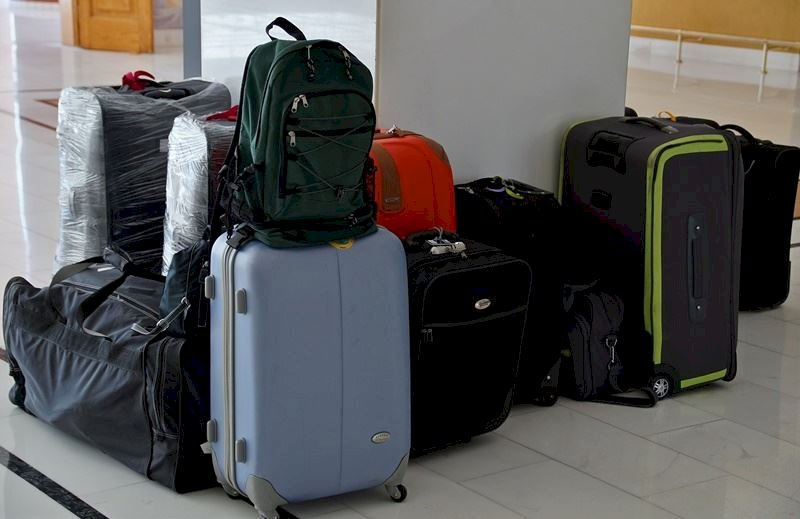backpack: (213, 18, 389, 252)
bag: (1, 252, 253, 488)
luggage: (201, 224, 426, 517), (554, 109, 748, 396), (449, 167, 586, 412), (395, 230, 517, 462)
